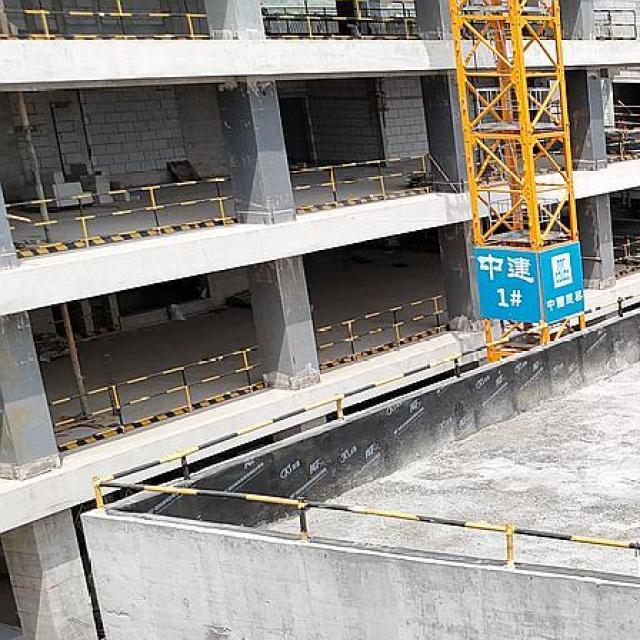edge_guardrail: (88, 290, 640, 553), (47, 345, 264, 449), (5, 176, 241, 254), (314, 294, 449, 369), (0, 0, 211, 40), (290, 154, 433, 212), (262, 0, 419, 40), (593, 9, 638, 41), (604, 128, 640, 162), (613, 233, 640, 263), (614, 99, 640, 125)
